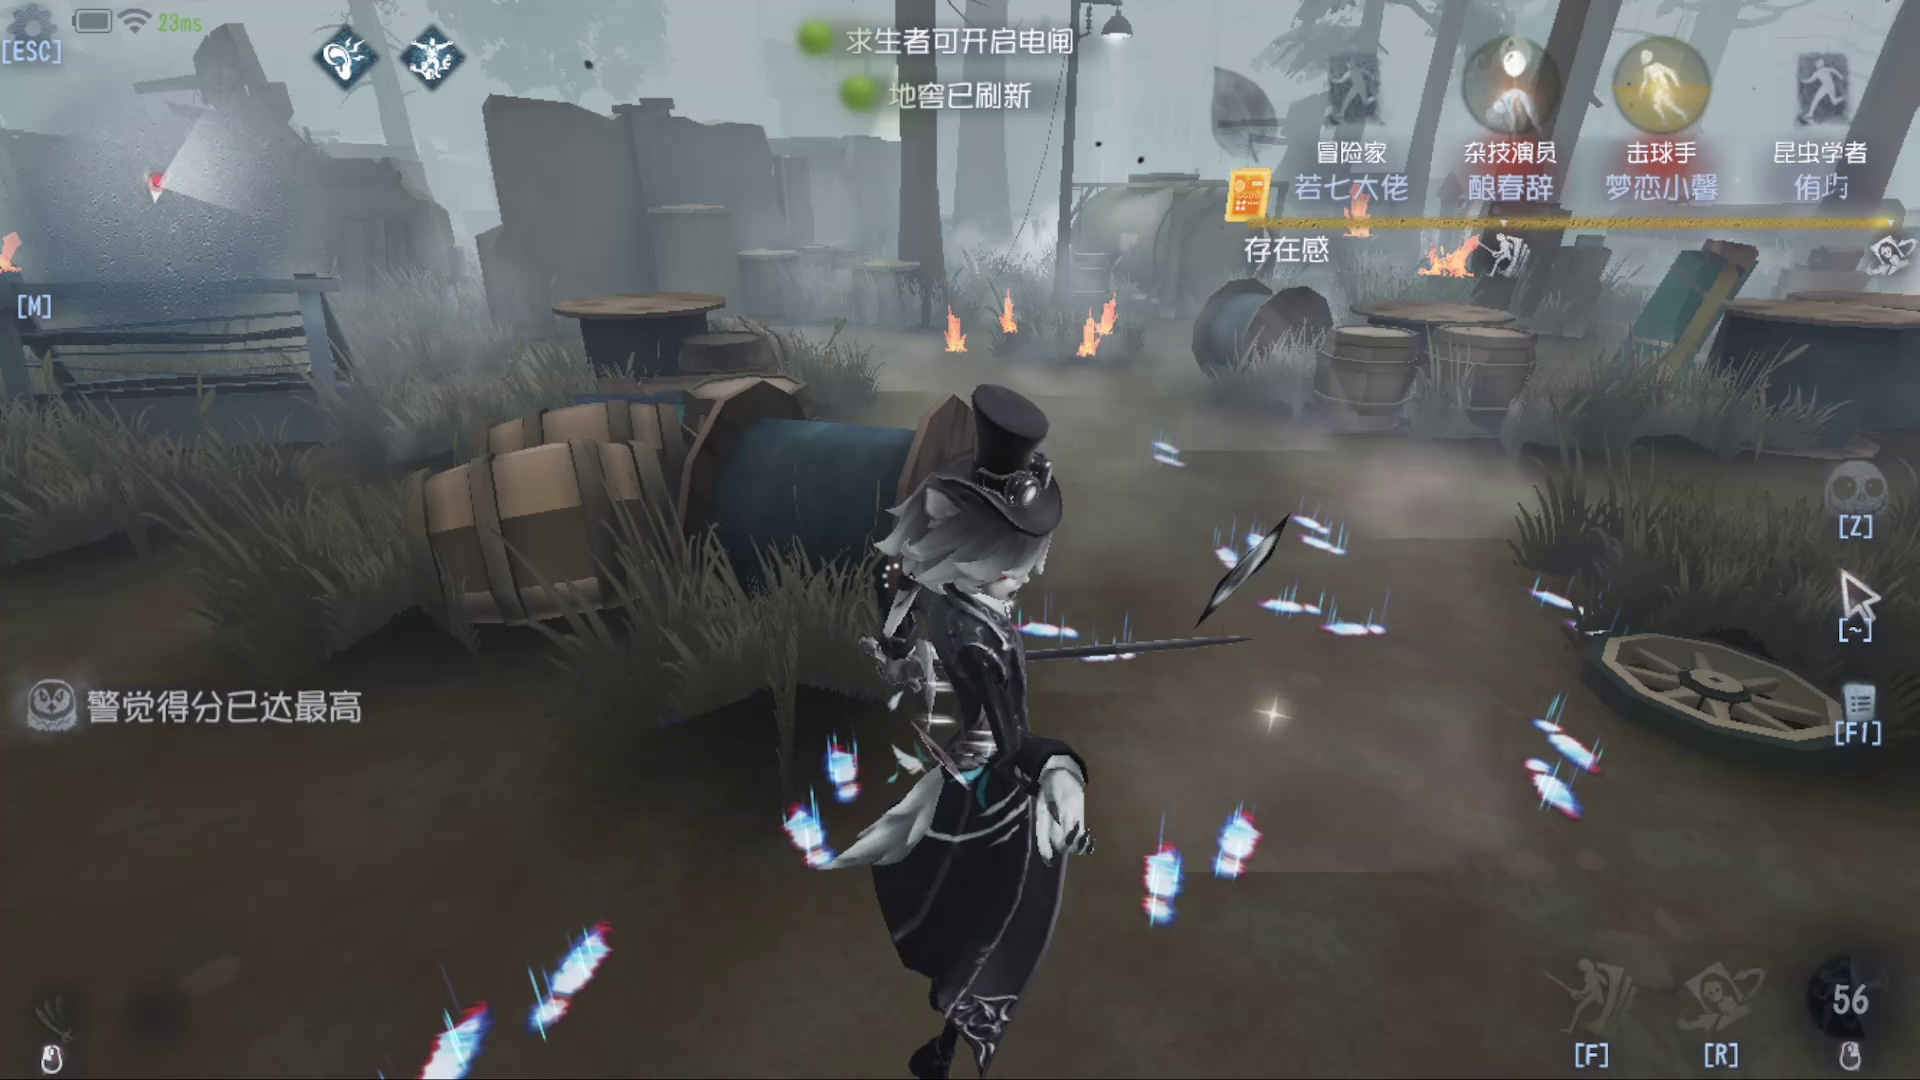木板: (1584, 218, 1741, 446)
狂欢之椅: (1425, 152, 1491, 291), (934, 299, 986, 376)
